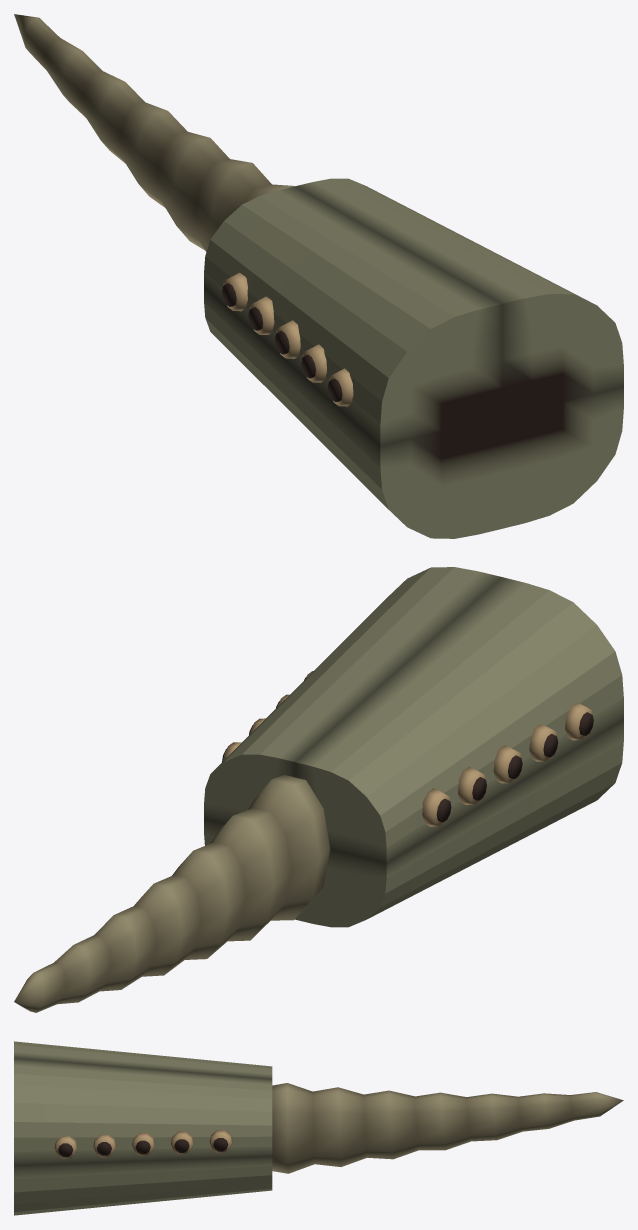
Rendered from Vetulicola.fbx.
3 renders of one model, top to bottom at view 1: azimuth 30°, elevation 25°; view 2: azimuth 150°, elevation 25°; view 3: azimuth 270°, elevation 25°, orthographic. The views are drawn at different scales.
Visible parts, largest first — view 1: Vetulicola; view 2: Vetulicola; view 3: Vetulicola.
Part boxes in pixels (bbox=[...]): Vetulicola: bbox=[14, 14, 623, 538]; Vetulicola: bbox=[14, 567, 623, 1012]; Vetulicola: bbox=[14, 1041, 623, 1215].
Size of the model in its own units: 0.355 by 0.3 by 1.18.
